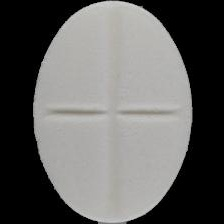42549-522: (0, 0, 224, 224)
